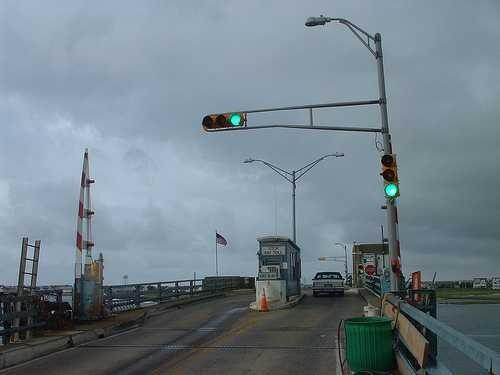2: (376, 147, 400, 202), (199, 112, 247, 130)
3: (380, 150, 396, 168), (202, 110, 214, 130), (382, 169, 398, 183), (216, 113, 227, 129)
red traffic light: (385, 181, 401, 200), (228, 111, 243, 127)
